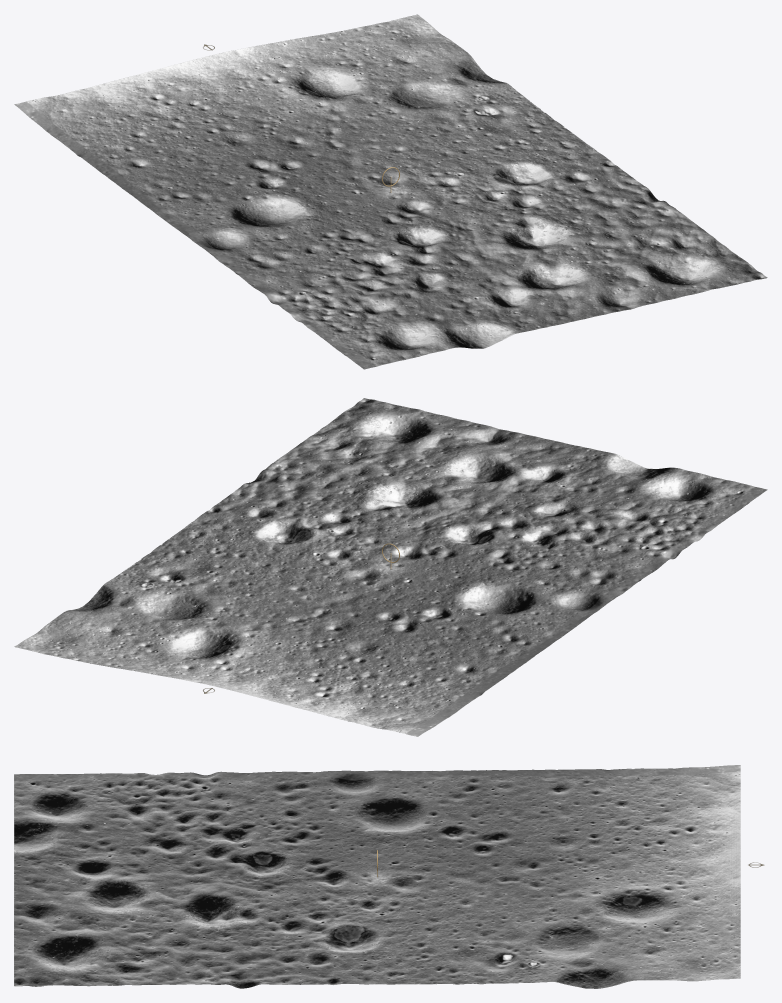
Rendered from Apollo17_Taurus_Littrow_MKI.glb.
The picture shows the model from 3 angles, top to bottom: view 1: azimuth 30°, elevation 25°; view 2: azimuth 150°, elevation 25°; view 3: azimuth 270°, elevation 25°; orthographic projection. The views are drawn at different scales.
Parts seen in each view (by area): view 1: Apollo17_Taurus_Littrow; view 2: Apollo17_Taurus_Littrow; view 3: Apollo17_Taurus_Littrow.
Part boxes in pixels (x1=…): Apollo17_Taurus_Littrow: x1=14, y1=14, x2=767, y2=369; Apollo17_Taurus_Littrow: x1=14, y1=398, x2=767, y2=736; Apollo17_Taurus_Littrow: x1=14, y1=765, x2=740, y2=988.
Size of the model in its own units: 3992 by 361 by 6217.
Materials: 3 (2 with a texture image).
